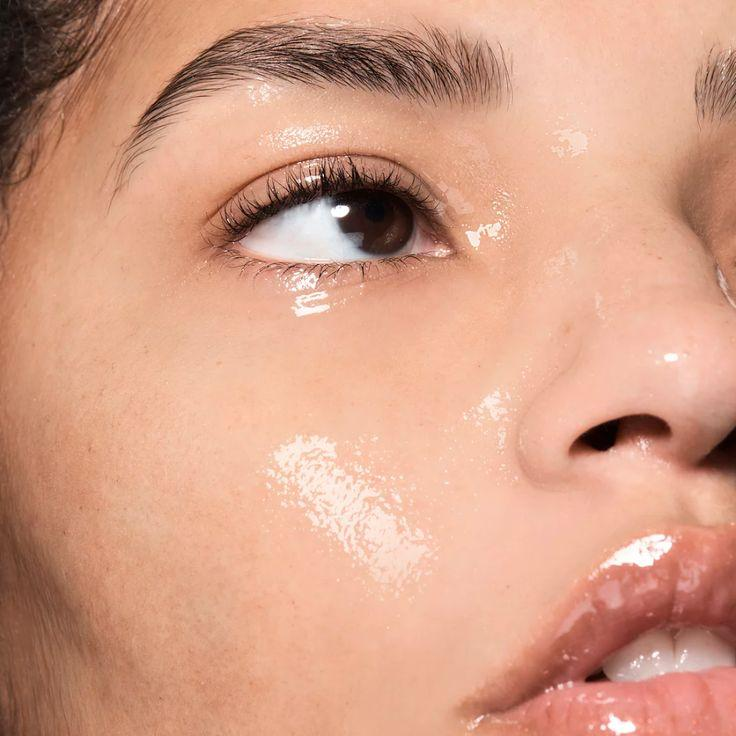Oily-Skin: (266, 470, 418, 616), (232, 36, 402, 148), (294, 412, 398, 506), (470, 396, 542, 472), (544, 114, 600, 184), (412, 498, 556, 514)
